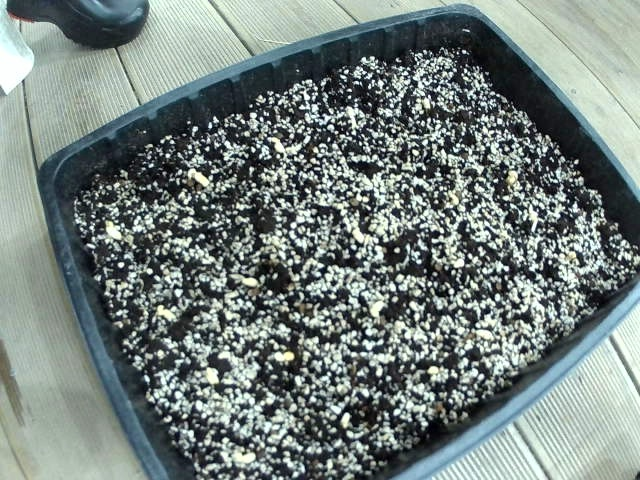발아기: (136, 296, 195, 347), (259, 126, 318, 173), (72, 209, 140, 249), (168, 156, 229, 197), (186, 358, 238, 400), (218, 268, 270, 309), (217, 444, 269, 476), (358, 293, 402, 329), (439, 245, 480, 283), (414, 360, 458, 392), (269, 339, 306, 375), (494, 161, 537, 191), (414, 89, 449, 125), (430, 191, 475, 219), (333, 97, 370, 131), (326, 405, 363, 438), (556, 243, 592, 273), (521, 203, 553, 229), (348, 221, 383, 244), (467, 319, 501, 342)
